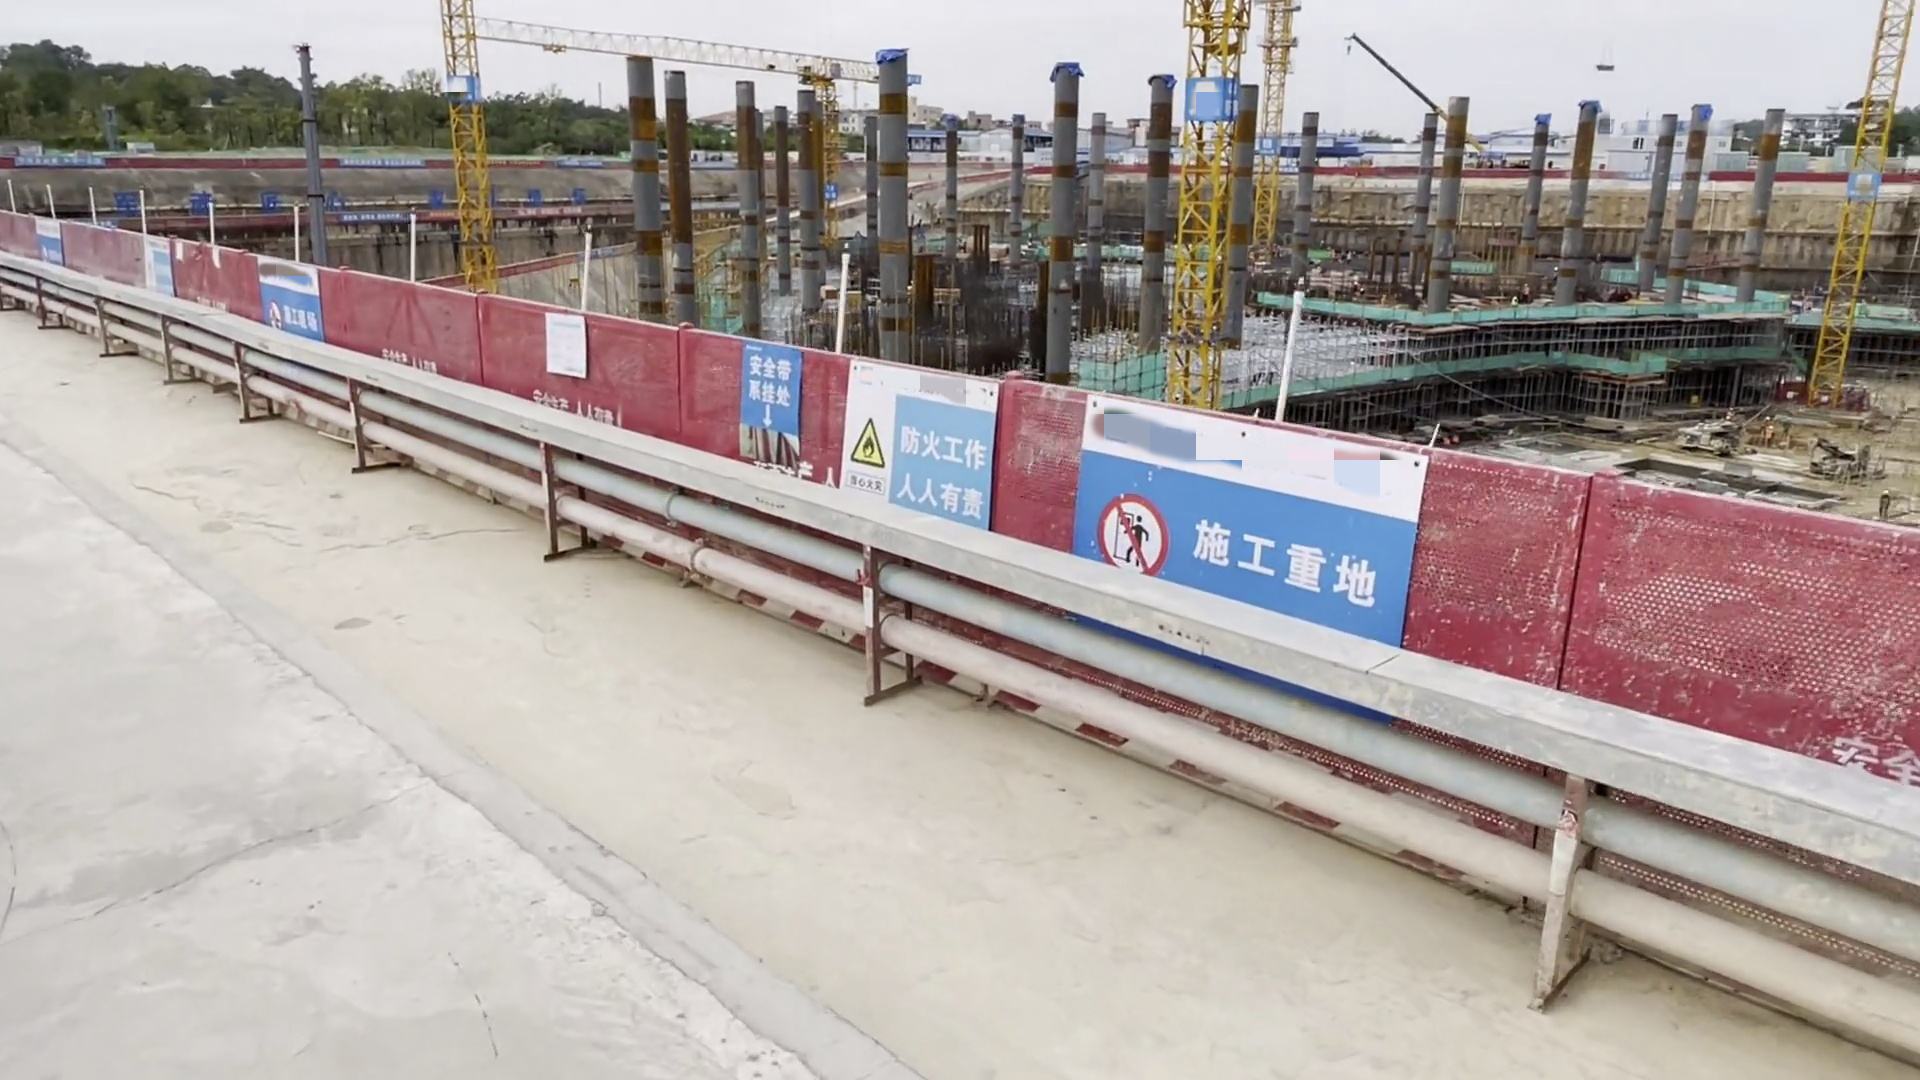fence: (1004, 383, 1570, 709), (1577, 480, 1920, 769), (682, 331, 999, 548), (484, 294, 678, 452), (151, 242, 331, 348), (332, 271, 484, 381), (5, 212, 149, 293)
person: (1511, 294, 1521, 318), (1767, 424, 1775, 444)
slogan: (1080, 397, 1416, 656), (828, 357, 1002, 535), (736, 343, 805, 434), (259, 259, 326, 341), (1187, 80, 1237, 124), (31, 219, 63, 269), (148, 240, 178, 286), (14, 157, 100, 172), (517, 205, 579, 218), (1845, 175, 1876, 199), (340, 161, 419, 170), (341, 214, 404, 222), (1258, 140, 1276, 161), (486, 159, 545, 166), (817, 185, 836, 200), (562, 160, 612, 165)
